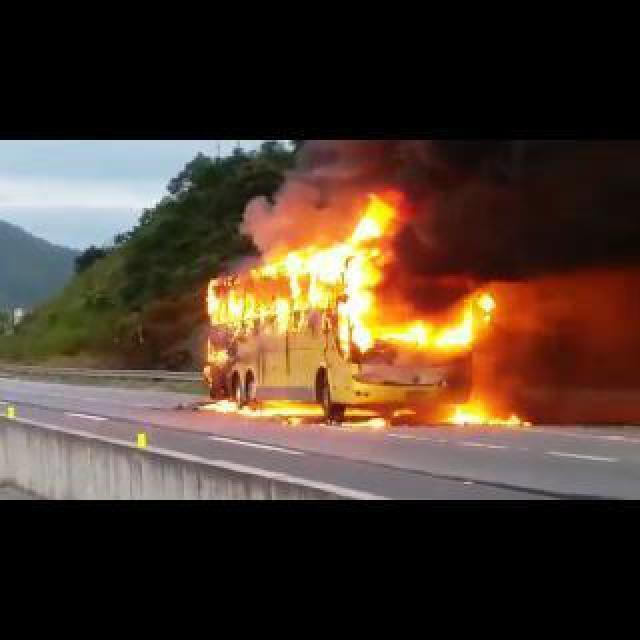Fire: (208, 194, 396, 354), (396, 296, 500, 354), (440, 402, 542, 428), (198, 398, 320, 414), (204, 338, 230, 380), (338, 416, 388, 428), (344, 406, 380, 416), (394, 408, 418, 416)
